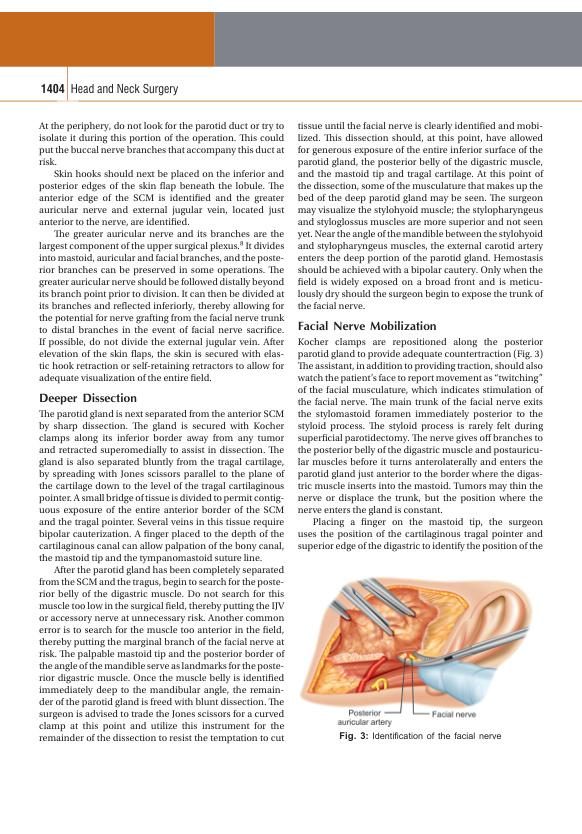caption: (337, 729, 503, 742)
header: (70, 82, 179, 97)
image: (294, 570, 552, 728)
sub-section-heading: (296, 319, 438, 332), (38, 392, 139, 406)
text: (37, 408, 286, 745), (37, 119, 285, 385), (296, 336, 544, 553), (296, 120, 546, 311)
